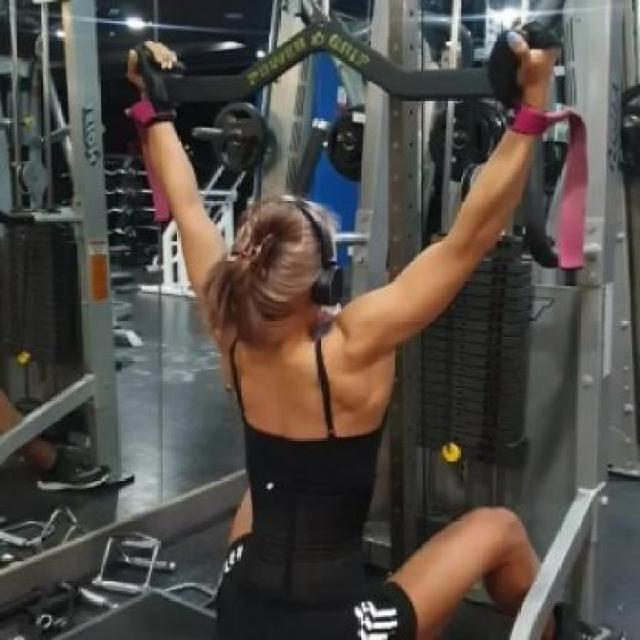Lat Pull Down: (91, 0, 586, 640)
